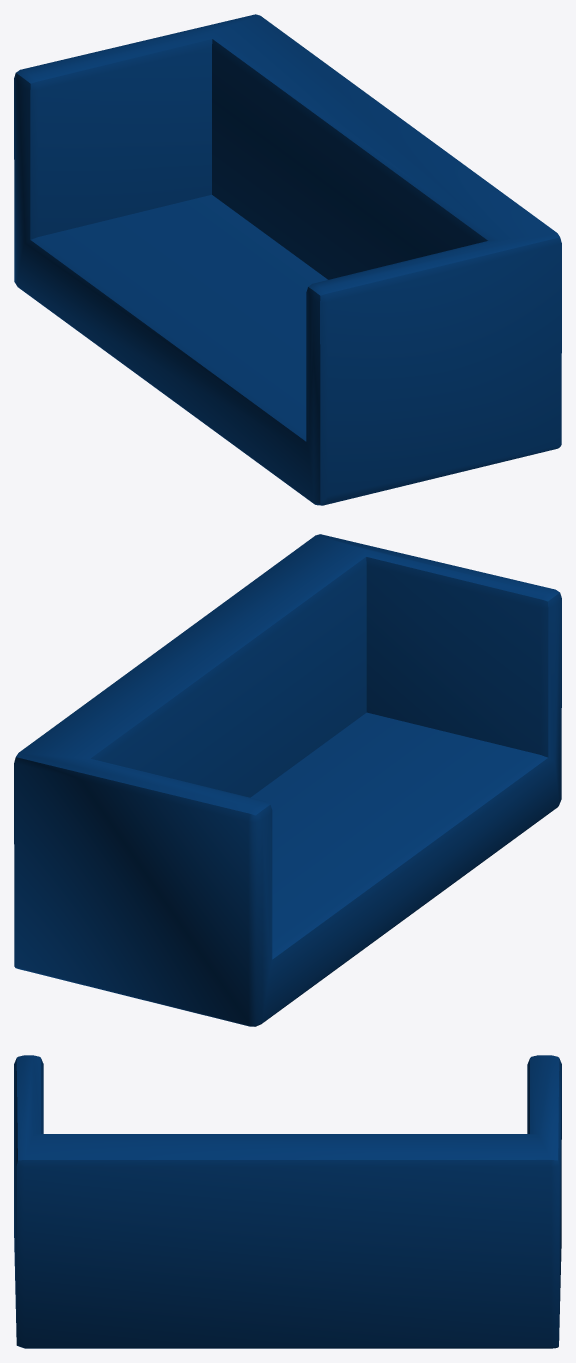
File: Mueble.fbx
3 renders of one model, top to bottom at view 1: azimuth 30°, elevation 25°; view 2: azimuth 150°, elevation 25°; view 3: azimuth 270°, elevation 25°, orthographic. The views are drawn at different scales.
Visible parts, largest first — view 1: Mueble(mapeado)(texturizado); view 2: Mueble(mapeado)(texturizado); view 3: Mueble(mapeado)(texturizado).
Part boxes in pixels (x1,y1,x2,y2): Mueble(mapeado)(texturizado): [14, 14, 561, 505]; Mueble(mapeado)(texturizado): [14, 534, 561, 1026]; Mueble(mapeado)(texturizado): [14, 1055, 561, 1348].
Bounding box in the file's own units: 424 × 356 × 922.
